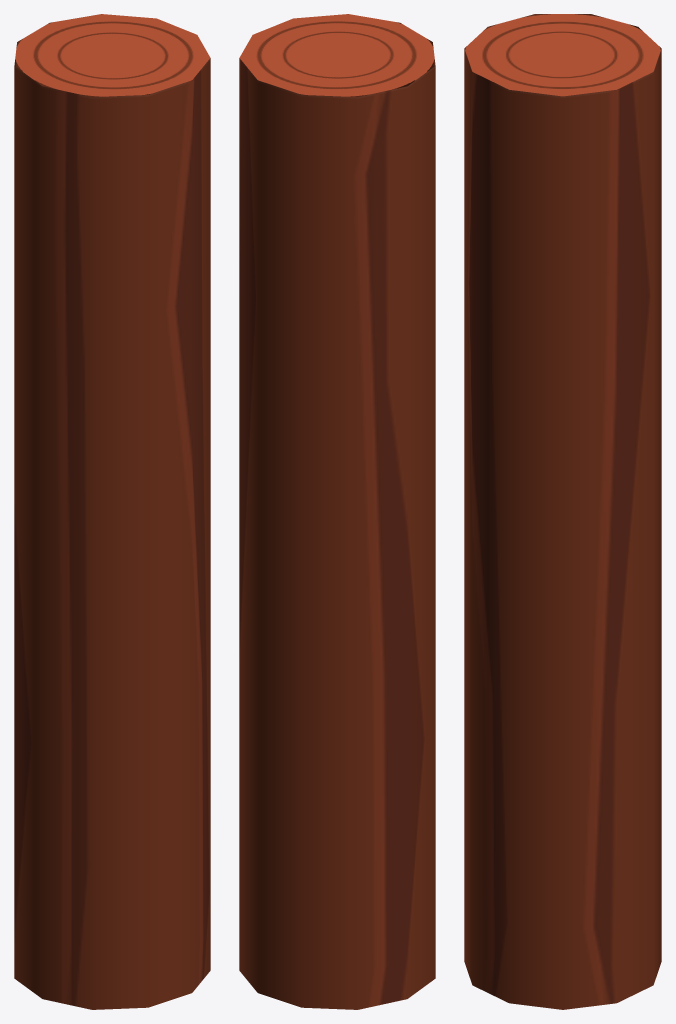
Rendered from cilinder2mat.FBX.
3 renders of one model, left to right at view 1: azimuth 30°, elevation 25°; view 2: azimuth 150°, elevation 25°; view 3: azimuth 270°, elevation 25°, orthographic.
Parts seen in each view (by area): view 1: Cylinder001; view 2: Cylinder001; view 3: Cylinder001.
Part boxes in pixels (box(x1,y1,x2,y2)): Cylinder001: box(14, 14, 210, 1009); Cylinder001: box(239, 14, 435, 1009); Cylinder001: box(464, 14, 661, 1009).
Size of the model in its own units: 94.02 by 486 by 94.99.
